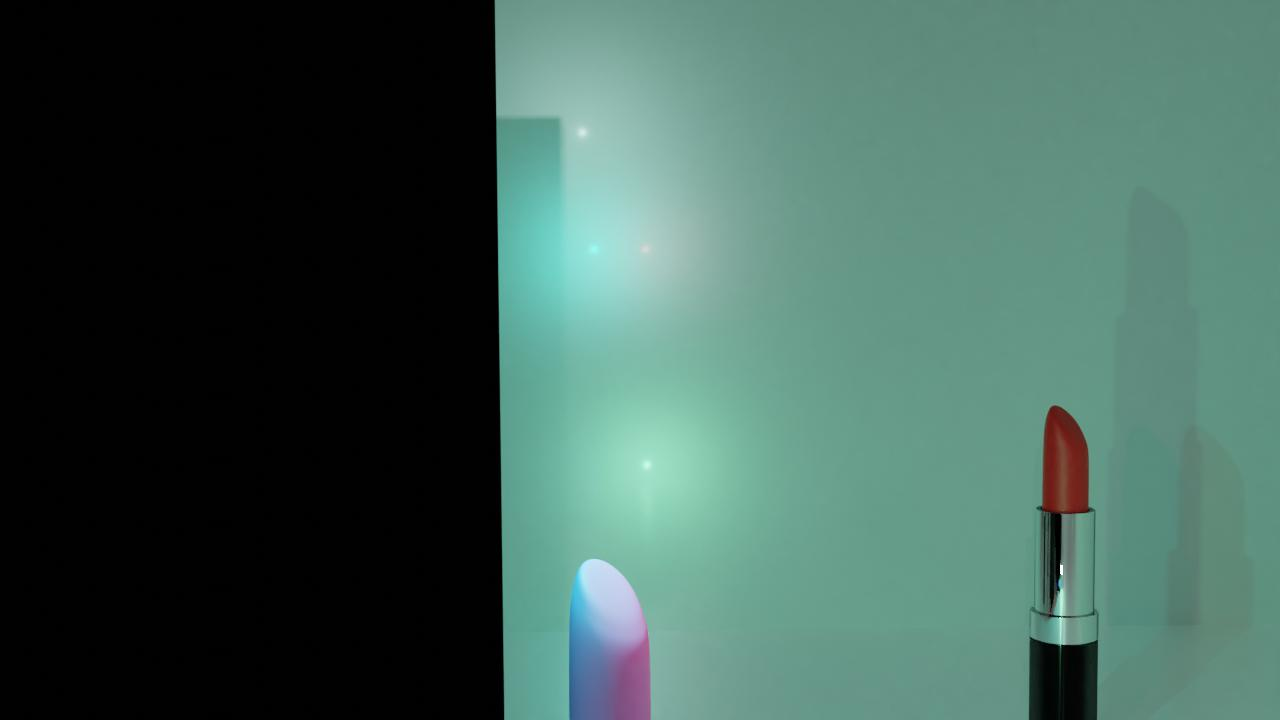CLASSIFIER_NAME: (1027, 401, 1101, 720), (551, 551, 675, 720)
